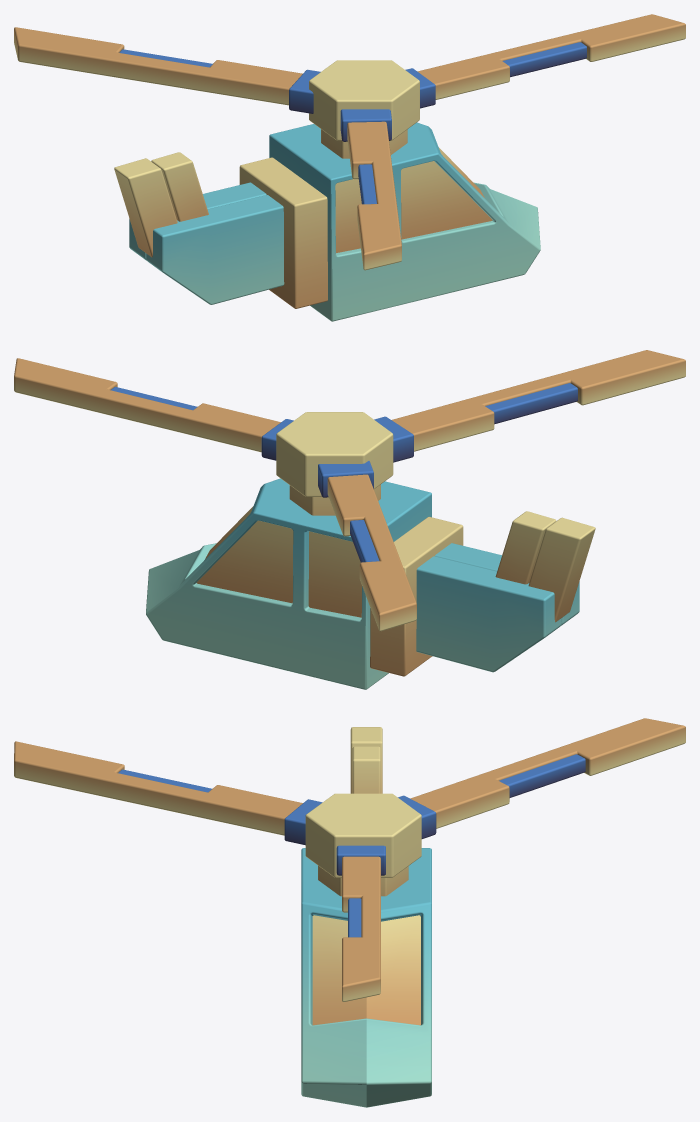
The model's file is escort_drone.glb.
3 views of the same model, one above another, from view 1: azimuth 30°, elevation 25°; view 2: azimuth 150°, elevation 25°; view 3: azimuth 270°, elevation 25° (orthographic). The views are drawn at different scales.
Parts seen in each view (by area): view 1: Cube.124, Cube.129, Cube.127, Cube.125, Cube.128, Cube.126, Cylinder.018, Cube.130, Cylinder.019; view 2: Cube.124, Cube.129, Cube.126, Cube.125, Cube.127, Cylinder.018, Cube.130, Cube.128, Cylinder.019; view 3: Cube.124, Cube.126, Cube.127, Cylinder.018, Cube.125, Cube.130, Cylinder.019.
Boxes of the visible parts, x1,y1,x2,y2 form: Cube.124: (269,122,540,321); Cube.129: (129,182,284,304); Cube.127: (14,27,320,113); Cube.125: (405,14,685,108); Cube.128: (239,157,327,308); Cube.126: (340,109,401,270); Cylinder.018: (309,60,419,140); Cube.130: (114,152,208,257); Cylinder.019: (321,129,407,158); Cube.124: (146,478,431,689); Cube.129: (416,543,579,672); Cube.126: (374,350,685,462); Cube.125: (14,358,293,460); Cube.127: (318,461,416,631); Cylinder.018: (276,412,393,496); Cube.130: (495,511,595,622); Cube.128: (370,516,463,676); Cylinder.019: (289,484,380,515); Cube.124: (301,848,431,1107); Cube.126: (14,741,322,845); Cube.127: (398,718,685,838); Cylinder.018: (305,793,421,877); Cube.125: (336,845,385,1001); Cube.130: (350,727,382,793); Cylinder.019: (318,865,408,896).
Bounding box in the file's own units: 9.33 × 3.31 × 9.36.
Materials: 1 (1 with a texture image).
